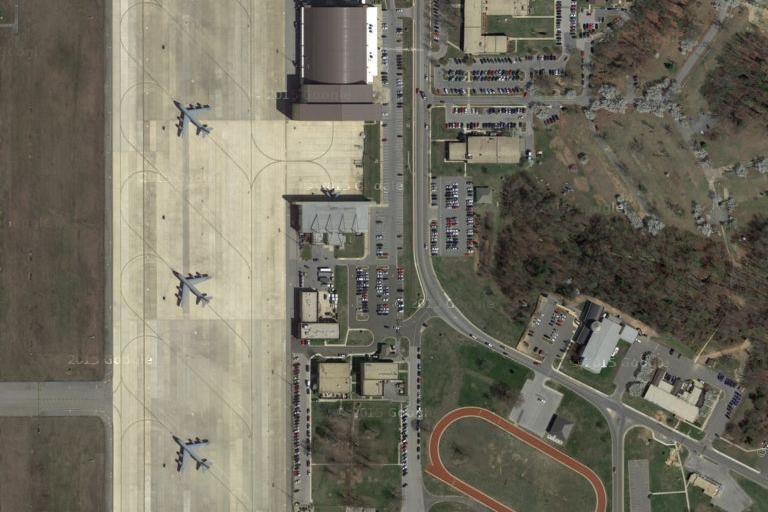KC-135: (173, 99, 217, 142), (172, 271, 217, 312), (171, 435, 215, 475)
